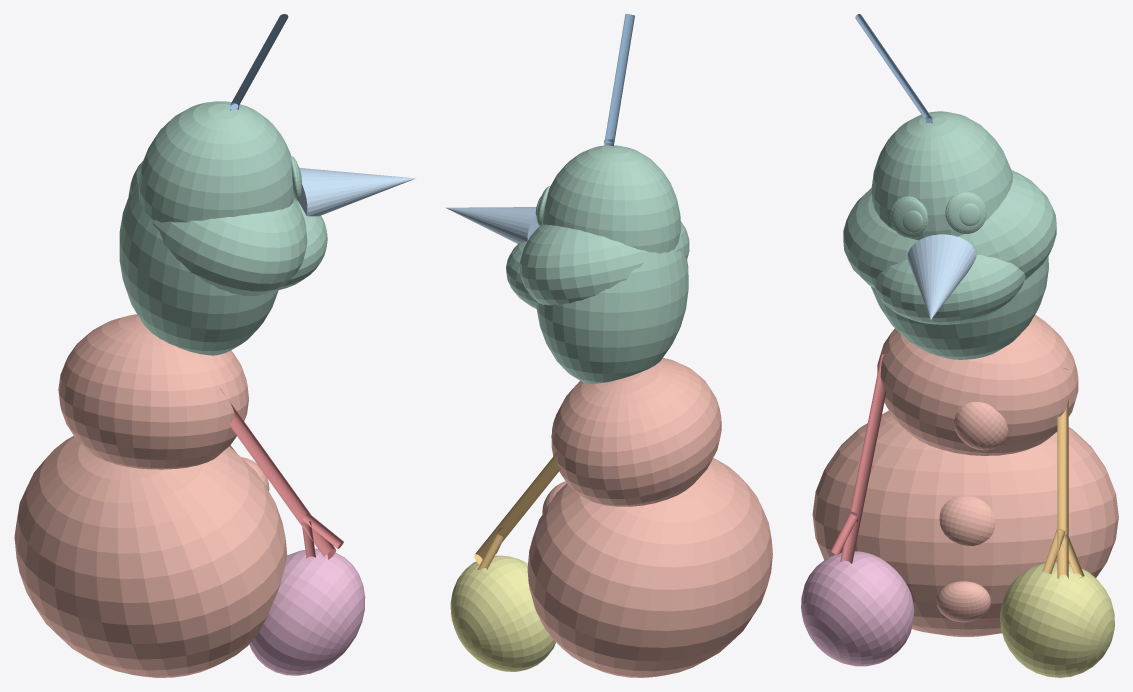
Rendered from 94725_assembly.glb.
The picture shows the model from 3 angles, left to right: view 1: azimuth 30°, elevation 25°; view 2: azimuth 150°, elevation 25°; view 3: azimuth 270°, elevation 25°; orthographic projection. The views are drawn at different scales.
Parts seen in each view (by area): view 1: part_01, part_05, part_03, part_06, part_00, part_07; view 2: part_01, part_05, part_04, part_06, part_02, part_07; view 3: part_01, part_05, part_04, part_03, part_06, part_00, part_02, part_07.
Part boxes in pixels (x1,y1,x2,y2): part_01: [14, 314, 287, 677]; part_05: [119, 101, 327, 355]; part_03: [249, 548, 365, 675]; part_06: [297, 168, 415, 216]; part_00: [220, 388, 343, 559]; part_07: [229, 14, 288, 110]; part_01: [527, 357, 772, 677]; part_05: [506, 145, 689, 383]; part_04: [450, 555, 555, 671]; part_06: [445, 207, 539, 243]; part_02: [474, 451, 561, 573]; part_07: [604, 14, 634, 146]; part_01: [812, 315, 1118, 636]; part_05: [843, 111, 1056, 359]; part_04: [1000, 562, 1114, 677]; part_03: [801, 551, 914, 666]; part_06: [907, 234, 976, 319]; part_00: [831, 354, 889, 563]; part_02: [1042, 368, 1084, 578]; part_07: [855, 14, 932, 123].
Bounding box in the file's own units: 1.14 × 2.03 × 0.9019.
